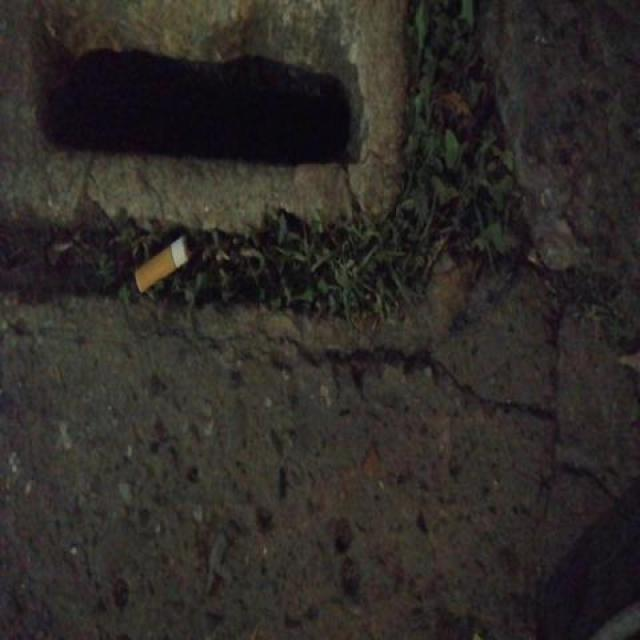non-organic waste: (131, 232, 194, 299)
